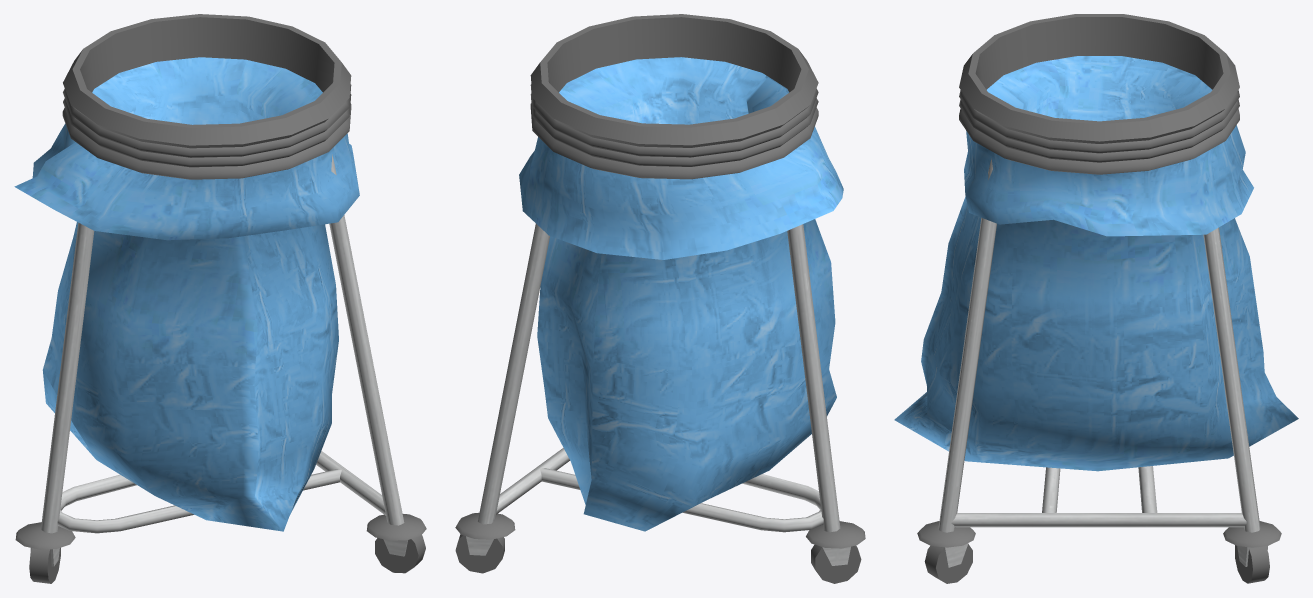
File: Bin.fbx
3 renders of one model, left to right at view 1: azimuth 30°, elevation 25°; view 2: azimuth 150°, elevation 25°; view 3: azimuth 270°, elevation 25°, orthographic. The views are drawn at different scales.
Parts seen in each view (by area): view 1: Bin; view 2: Bin; view 3: Bin.
Part boxes in pixels (<box>): Bin: <box>14,14,426,583</box>; Bin: <box>455,14,865,583</box>; Bin: <box>894,14,1298,583</box>.
Bounding box in the file's own units: 69.92 × 96.47 × 77.46.
